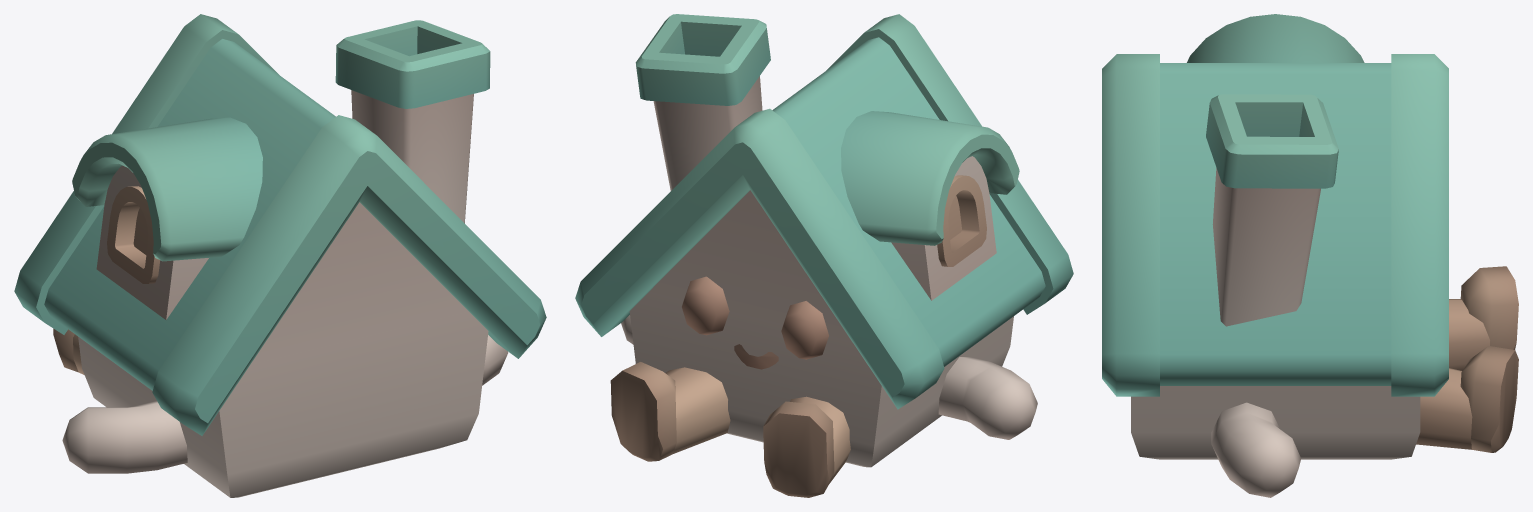
Rendered from plush-homie.glb.
3 renders of one model, left to right at view 1: azimuth 30°, elevation 25°; view 2: azimuth 150°, elevation 25°; view 3: azimuth 270°, elevation 25°, orthographic. The views are drawn at different scales.
Parts seen in each view (by area): view 1: plush-homie; view 2: plush-homie; view 3: plush-homie.
Boxes of the visible parts, bbox=[...] form: plush-homie: bbox=[14, 14, 546, 497]; plush-homie: bbox=[575, 14, 1073, 497]; plush-homie: bbox=[1102, 14, 1518, 497].
Bounding box in the file's own units: 0.4736 × 0.3786 × 0.3935.
